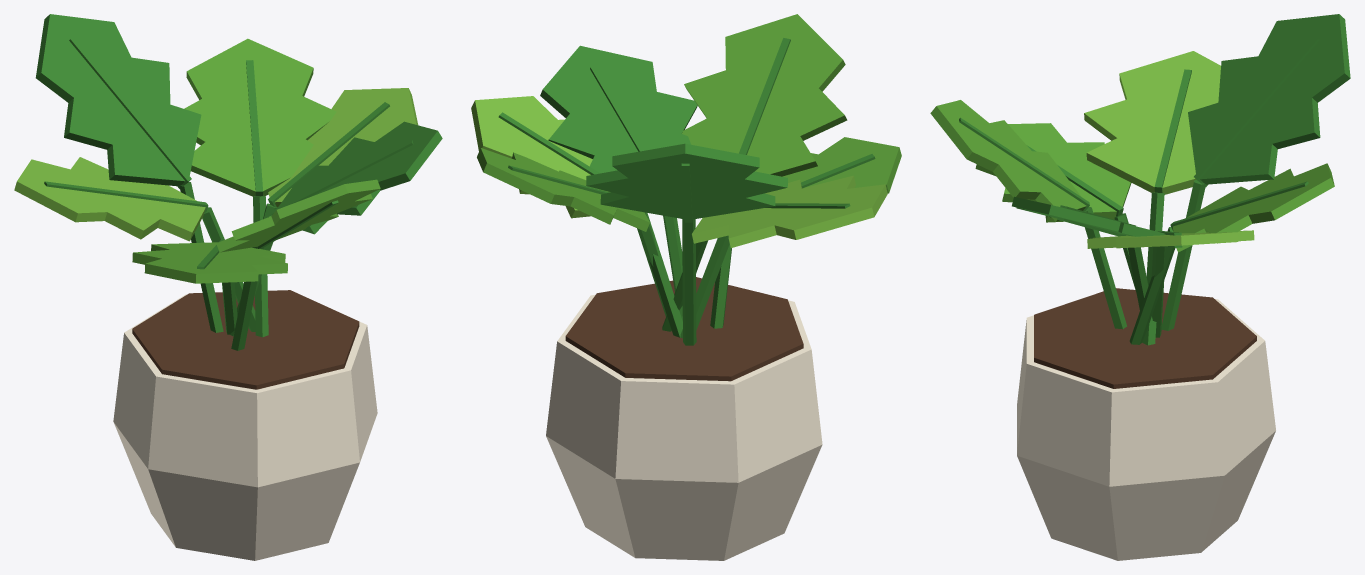
The model's file is plant_large.glb.
3 renders of one model, left to right at view 1: azimuth 30°, elevation 25°; view 2: azimuth 150°, elevation 25°; view 3: azimuth 270°, elevation 25°, orthographic. The views are drawn at different scales.
Parts seen in each view (by area): view 1: plant_large; view 2: plant_large; view 3: plant_large.
Boxes of the visible parts, x1,y1,x2,y2 form: plant_large: (14,14,442,560); plant_large: (471,14,901,560); plant_large: (930,14,1350,560).
Size of the model in its own units: 0.7317 by 0.816 by 0.6778.
